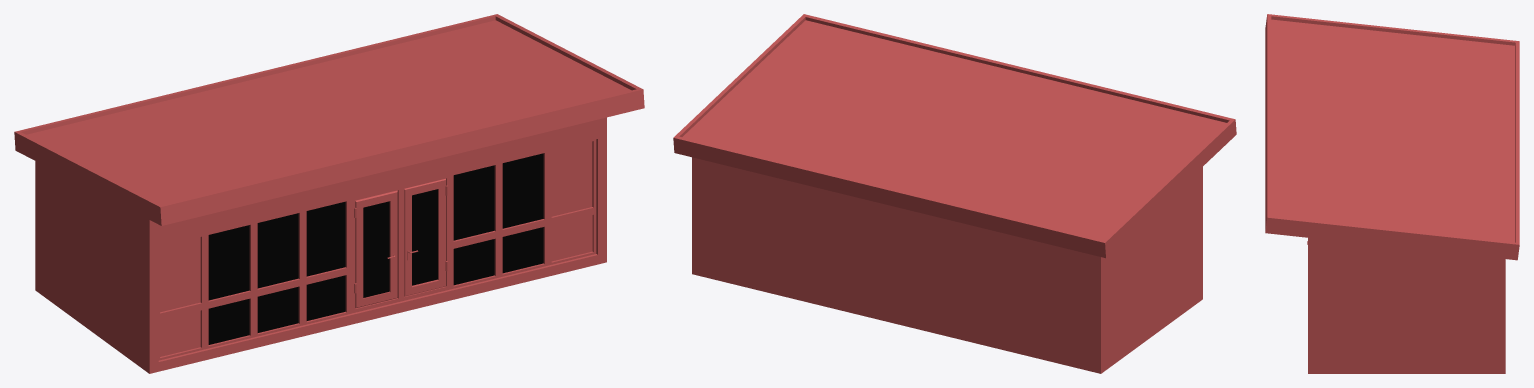
The model's file is SM_shop_6.fbx.
3 renders of one model, left to right at view 1: azimuth 30°, elevation 25°; view 2: azimuth 150°, elevation 25°; view 3: azimuth 270°, elevation 25°, orthographic. The views are drawn at different scales.
Parts seen in each view (by area): view 1: Cube_14, Cylinder_7, Cylinder_7_2; view 2: Cube_14; view 3: Cube_14.
Part boxes in pixels (x1,y1,x2,y2): Cube_14: (14,14,644,373); Cylinder_7: (404,178,447,296); Cylinder_7_2: (354,190,397,308); Cube_14: (673,14,1236,373); Cube_14: (1265,14,1519,373).
Bounding box in the file's own units: 1056 × 391 × 557.
